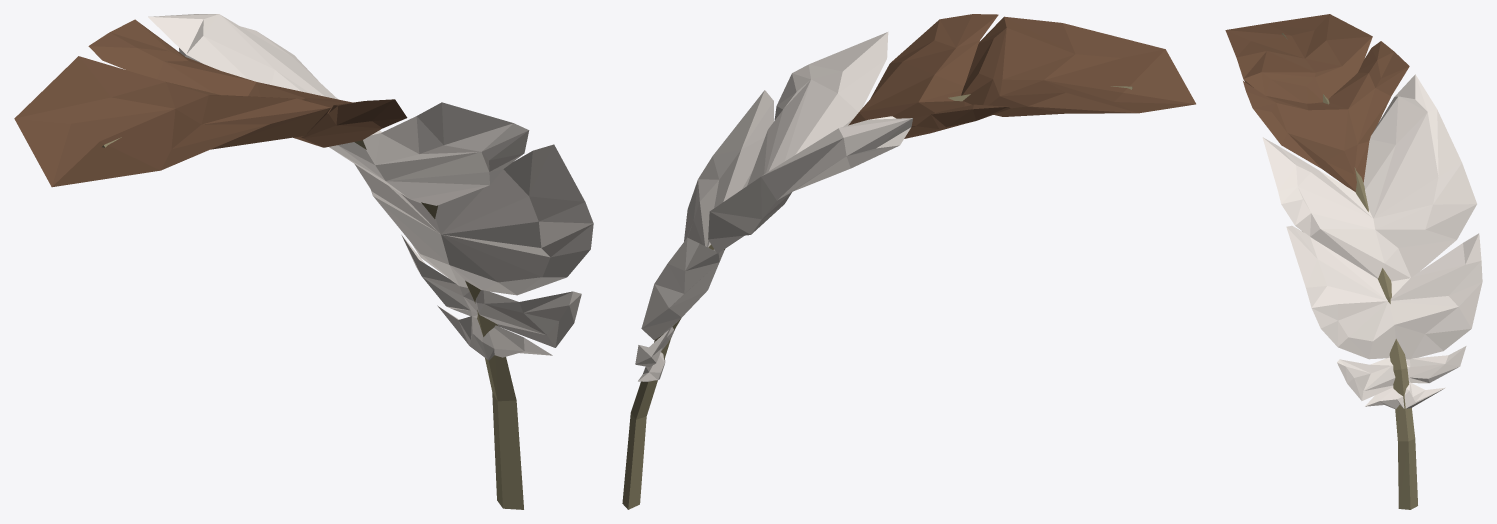
File: Feather_04.FBX
3 views of the same model, side by side, from view 1: azimuth 30°, elevation 25°; view 2: azimuth 150°, elevation 25°; view 3: azimuth 270°, elevation 25° (orthographic). The views are drawn at different scales.
Parts seen in each view (by area): view 1: Feather_04; view 2: Feather_04; view 3: Feather_04.
Part boxes in pixels (<box>): Feather_04: <box>14,14,593,509</box>; Feather_04: <box>622,14,1195,509</box>; Feather_04: <box>1225,14,1482,509</box>.
Bounding box in the file's own units: 2.33 × 2.2 × 1.51.
